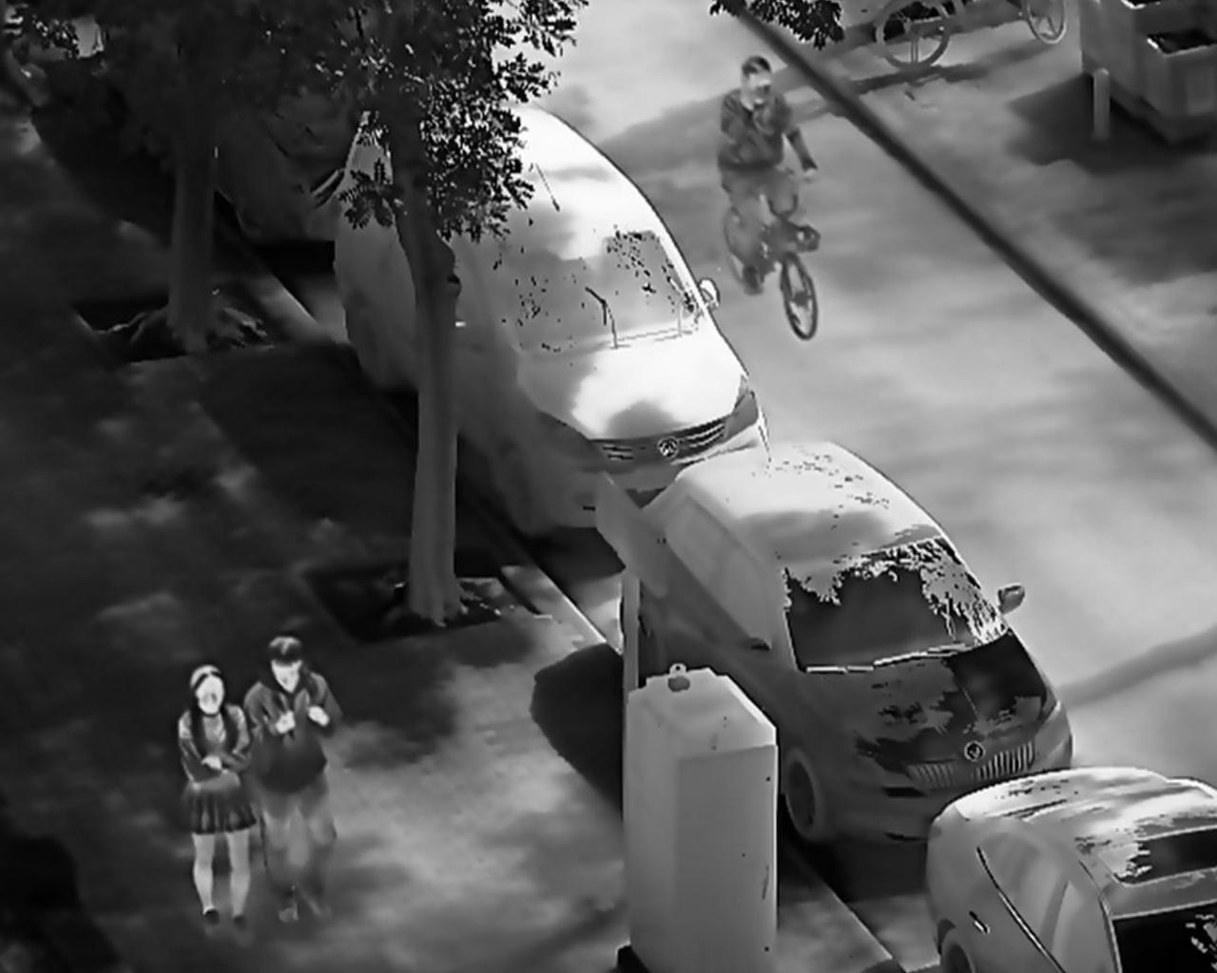person: (243, 635, 348, 927), (718, 49, 825, 299), (172, 659, 254, 932)
